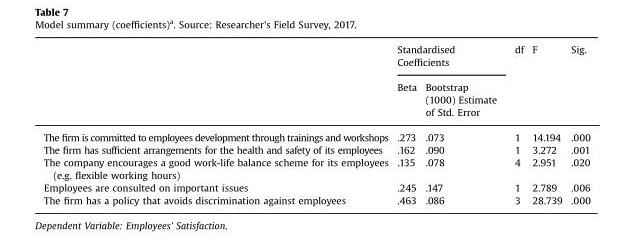table: (43, 43, 589, 205)
table column: (43, 43, 392, 205), (420, 43, 505, 205), (527, 43, 565, 205), (392, 43, 420, 205), (565, 43, 589, 205), (505, 43, 527, 205)
table column header: (43, 43, 589, 124)
table row: (43, 74, 589, 124), (43, 43, 589, 74), (43, 155, 589, 180), (43, 124, 589, 143), (43, 180, 589, 193), (43, 143, 589, 155), (43, 193, 589, 205)
table spanning cell: (392, 43, 505, 74), (527, 43, 565, 124), (565, 43, 589, 124), (505, 43, 527, 124)
